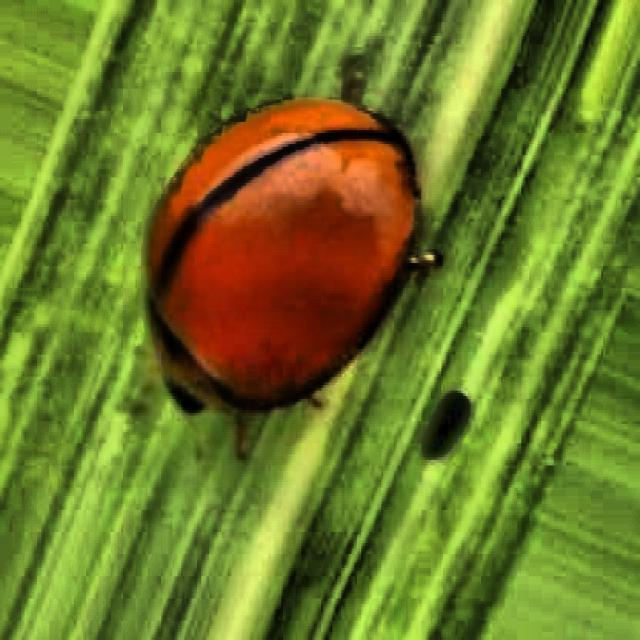Ladybug: (89, 17, 471, 510)
